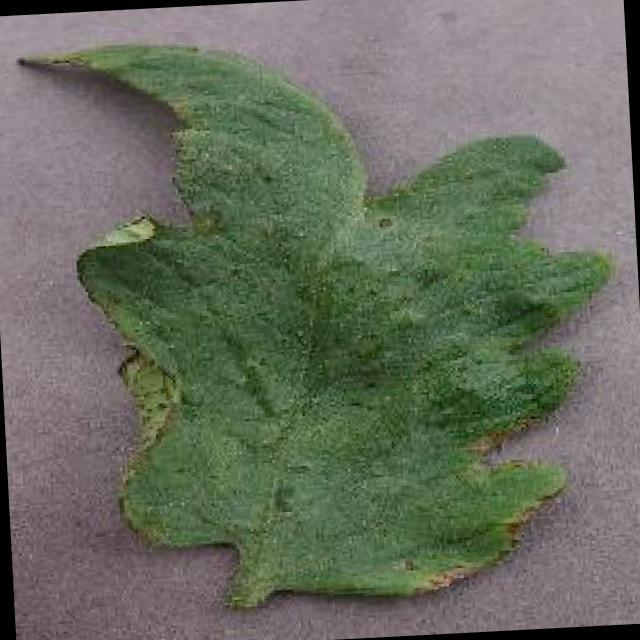Tomato bacterial spot leaf: (16, 4, 630, 618)
